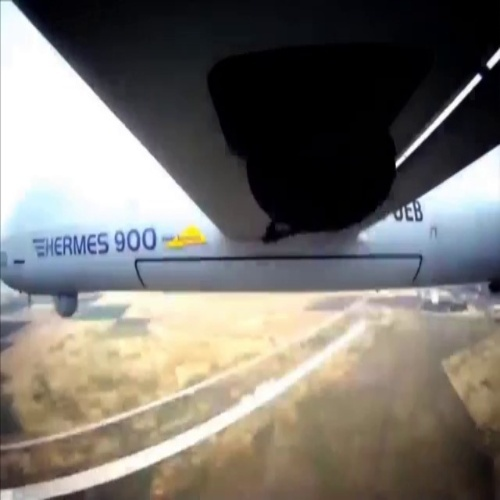uav: (1, 3, 498, 320)
